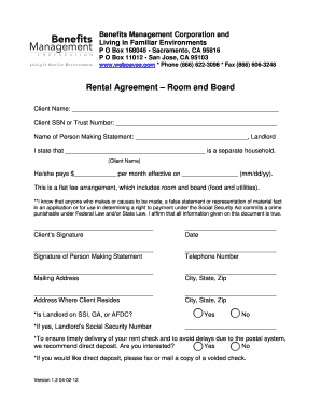checkbox: (226, 339, 242, 353), (228, 306, 241, 319), (191, 341, 206, 352), (190, 307, 204, 318)
textline: (71, 97, 279, 114), (115, 114, 278, 128), (64, 143, 204, 158), (31, 263, 156, 278), (33, 240, 156, 254), (31, 219, 153, 232), (31, 287, 157, 299), (181, 218, 281, 233), (136, 129, 248, 142), (180, 264, 280, 277), (182, 321, 283, 333), (181, 242, 280, 254), (181, 286, 279, 297), (181, 166, 238, 180), (73, 164, 114, 179)
